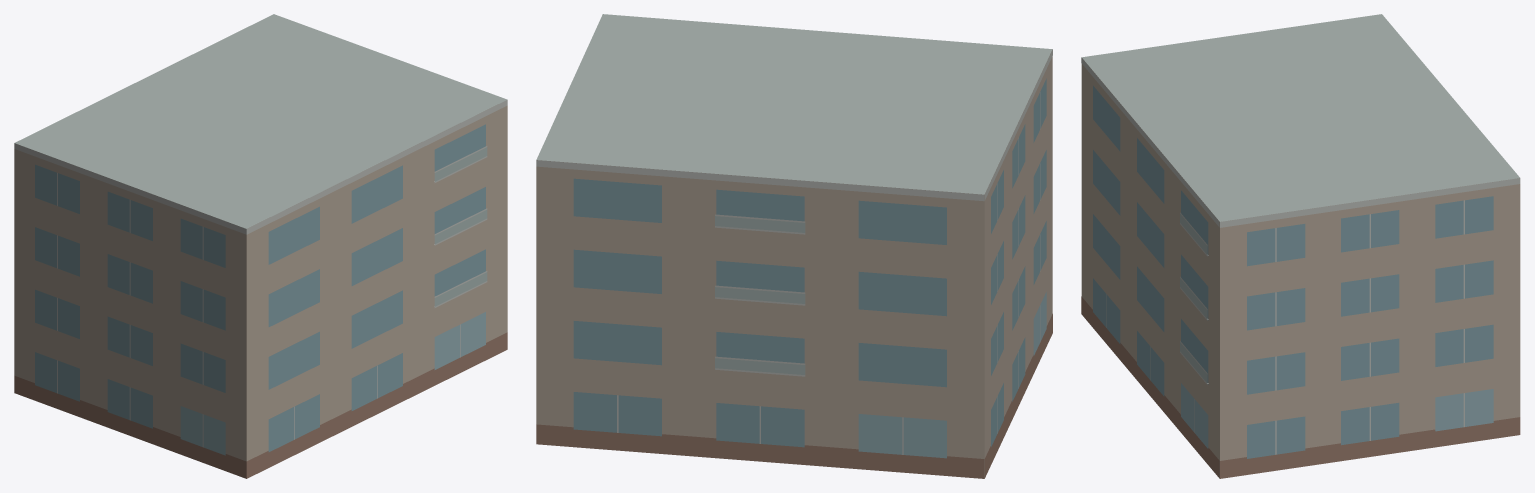
File: survey-upis-32525686.glb
3 renders of one model, left to right at view 1: azimuth 30°, elevation 25°; view 2: azimuth 150°, elevation 25°; view 3: azimuth 270°, elevation 25°, orthographic. The views are drawn at different scales.
Parts seen in each view (by area): view 1: survey-upis-32525686.tmp; view 2: survey-upis-32525686.tmp; view 3: survey-upis-32525686.tmp.
Part boxes in pixels (box(x1,y1,x2,y2)): survey-upis-32525686.tmp: box(14, 14, 507, 478); survey-upis-32525686.tmp: box(536, 14, 1052, 478); survey-upis-32525686.tmp: box(1081, 14, 1520, 478).
Size of the model in its own units: 18.22 by 10.49 by 16.25.
